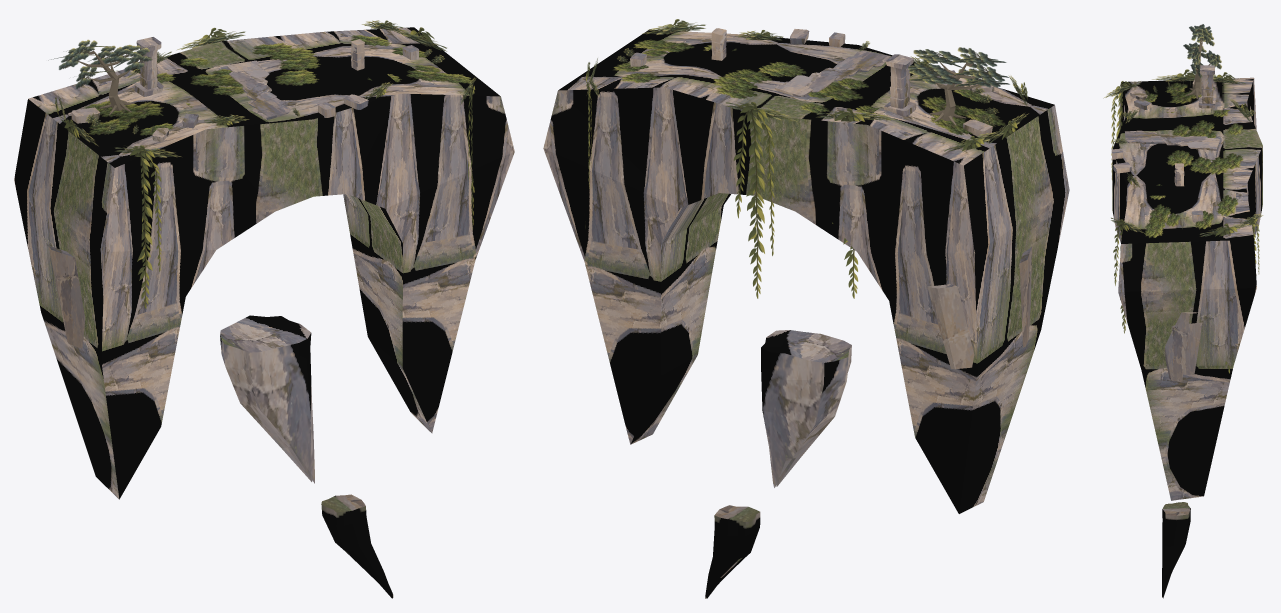
The model's file is arch.glb.
3 renders of one model, left to right at view 1: azimuth 30°, elevation 25°; view 2: azimuth 150°, elevation 25°; view 3: azimuth 270°, elevation 25°, orthographic. The views are drawn at different scales.
Parts seen in each view (by area): view 1: arch-open-stone-arch, arch-painted-pine-ivy-and-moss, arch-satellite-0-continuous-fractured-stone, arch-ruins-path-and-splintered-ledges, arch-long-hanging-vine-quads, arch-satellite-1-continuous-fractured-stone, arch-summit-soil-and-bent-trunks; view 2: arch-open-stone-arch, arch-painted-pine-ivy-and-moss, arch-satellite-0-continuous-fractured-stone, arch-ruins-path-and-splintered-ledges, arch-long-hanging-vine-quads, arch-satellite-1-continuous-fractured-stone, arch-summit-soil-and-bent-trunks; view 3: arch-open-stone-arch, arch-painted-pine-ivy-and-moss, arch-ruins-path-and-splintered-ledges, arch-satellite-1-continuous-fractured-stone, arch-long-hanging-vine-quads, arch-summit-soil-and-bent-trunks.
Boxes of the visible parts, <box> form: arch-open-stone-arch: <box>14,27,514,499</box>; arch-painted-pine-ivy-and-moss: <box>48,20,476,157</box>; arch-satellite-0-continuous-fractured-stone: <box>220,315,314,483</box>; arch-ruins-path-and-splintered-ledges: <box>36,37,418,348</box>; arch-long-hanging-vine-quads: <box>55,20,475,308</box>; arch-satellite-1-continuous-fractured-stone: <box>321,494,393,598</box>; arch-summit-soil-and-bent-trunks: <box>77,50,134,115</box>; arch-open-stone-arch: <box>543,29,1069,513</box>; arch-painted-pine-ivy-and-moss: <box>587,22,1028,151</box>; arch-satellite-0-continuous-fractured-stone: <box>761,330,851,487</box>; arch-ruins-path-and-splintered-ledges: <box>630,28,1031,369</box>; arch-long-hanging-vine-quads: <box>585,19,1027,298</box>; arch-satellite-1-continuous-fractured-stone: <box>705,505,760,598</box>; arch-summit-soil-and-bent-trunks: <box>929,62,979,125</box>; arch-open-stone-arch: <box>1112,77,1262,500</box>; arch-painted-pine-ivy-and-moss: <box>1103,24,1263,237</box>; arch-ruins-path-and-splintered-ledges: <box>1111,65,1219,382</box>; arch-satellite-1-continuous-fractured-stone: <box>1162,502,1190,598</box>; arch-long-hanging-vine-quads: <box>1111,69,1259,373</box>; arch-summit-soil-and-bent-trunks: <box>1185,38,1210,99</box>.
Size of the model in its own units: 34.54 by 48.38 by 15.73.
Materials: 7 (6 with a texture image).
